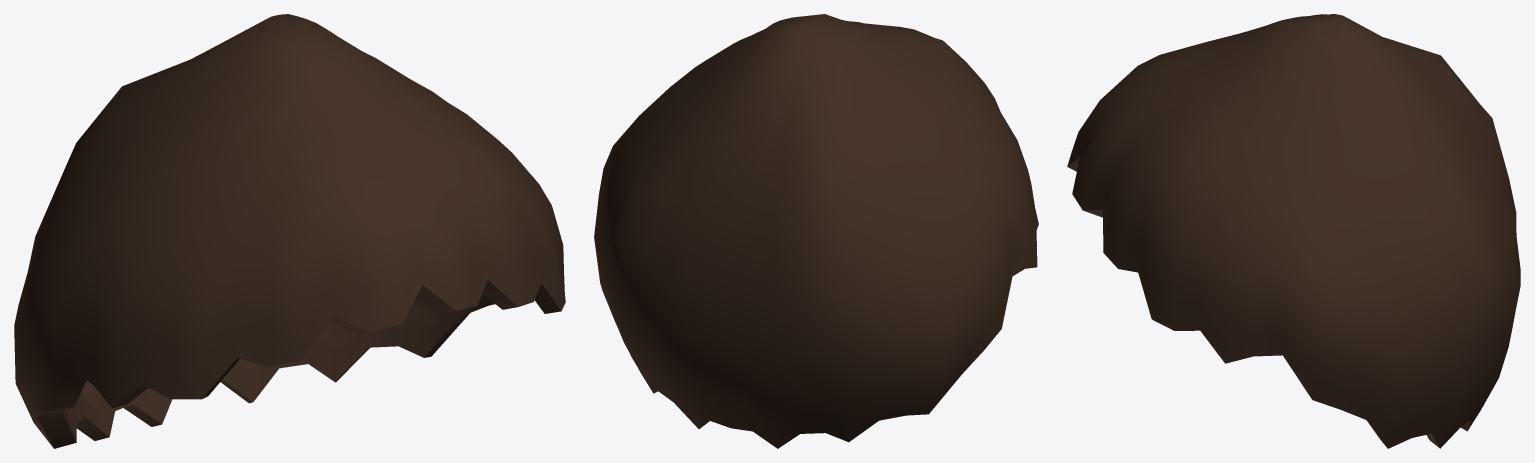
The model's file is Char_Hair_Messy.fbx.
3 views of the same model, side by side, from view 1: azimuth 30°, elevation 25°; view 2: azimuth 150°, elevation 25°; view 3: azimuth 270°, elevation 25° (orthographic). The views are drawn at different scales.
Parts seen in each view (by area): view 1: Hair; view 2: Hair; view 3: Hair.
Part boxes in pixels (x1=…): Hair: x1=14, y1=14, x2=565, y2=448; Hair: x1=594, y1=14, x2=1038, y2=448; Hair: x1=1067, y1=14, x2=1520, y2=448.
Bounding box in the file's own units: 143 × 127 × 132.
